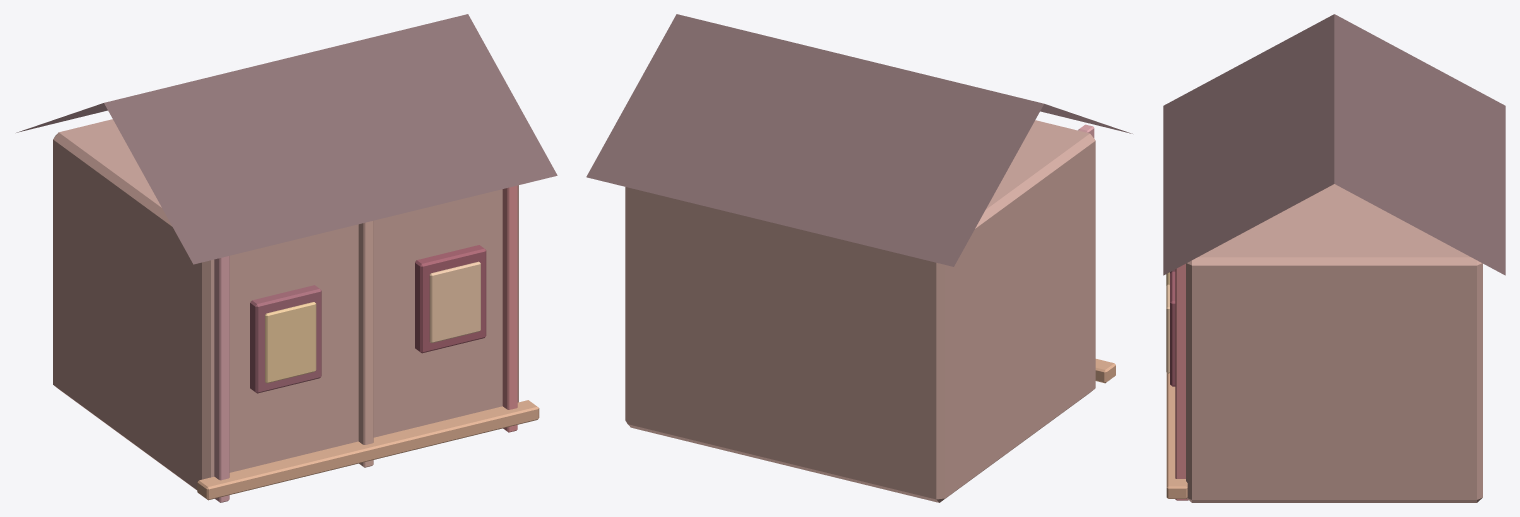
The model's file is WC_RIVER_Background_House_A.glb.
3 renders of one model, left to right at view 1: azimuth 30°, elevation 25°; view 2: azimuth 150°, elevation 25°; view 3: azimuth 270°, elevation 25°, orthographic. The views are drawn at different scales.
Visible parts, largest first — view 1: WC_RIVER_Background_House_A_RenderMesh; view 2: WC_RIVER_Background_House_A_RenderMesh; view 3: WC_RIVER_Background_House_A_RenderMesh.
Boxes of the visible parts, left/top/right/bottom form: WC_RIVER_Background_House_A_RenderMesh: left=16, top=14, right=557, bottom=502; WC_RIVER_Background_House_A_RenderMesh: left=586, top=14, right=1132, bottom=502; WC_RIVER_Background_House_A_RenderMesh: left=1163, top=14, right=1505, bottom=502.
Size of the model in its own units: 2.3 by 2.1 by 1.96.
